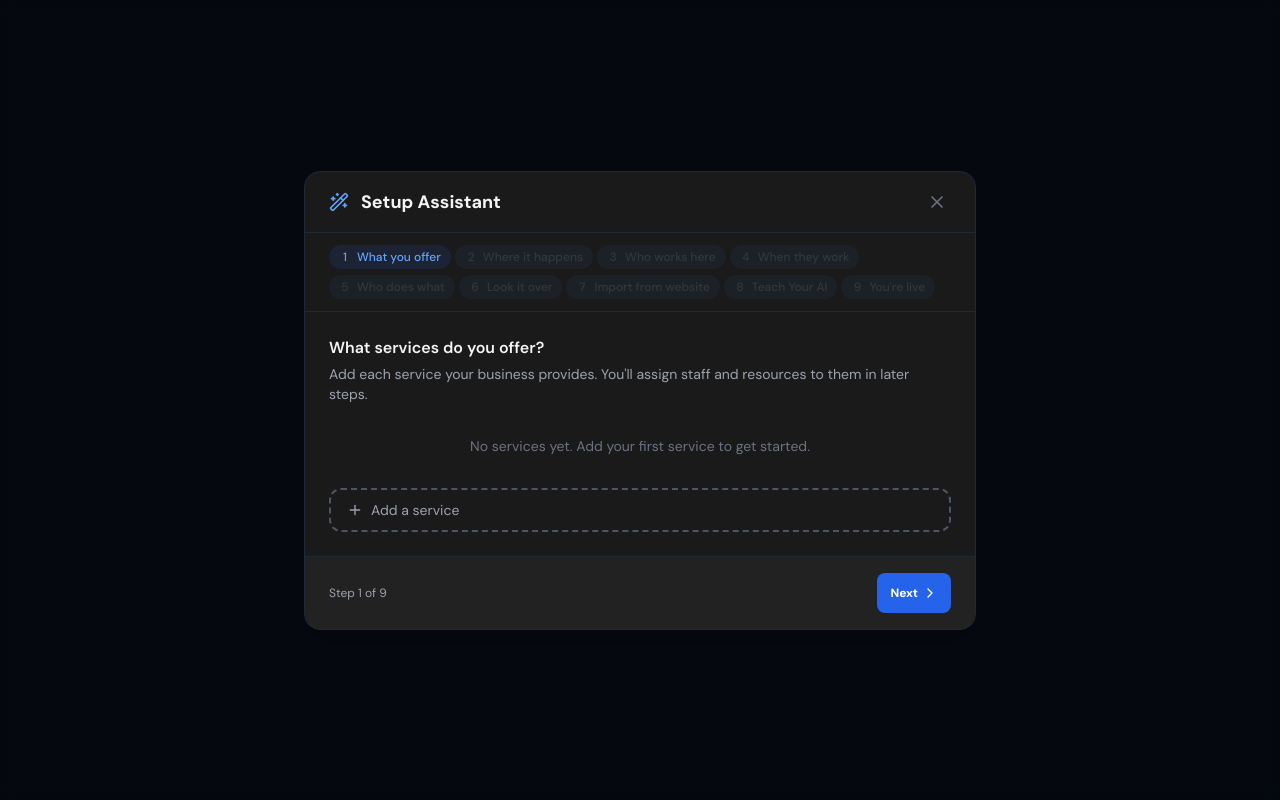
Test case: SetupWizard: Navigation › navigates to step 2 when Next is clicked
This screenshot has width=1280, height=800.
Click the button "Add a service" at (415, 510), box 329,488 -> 951,532
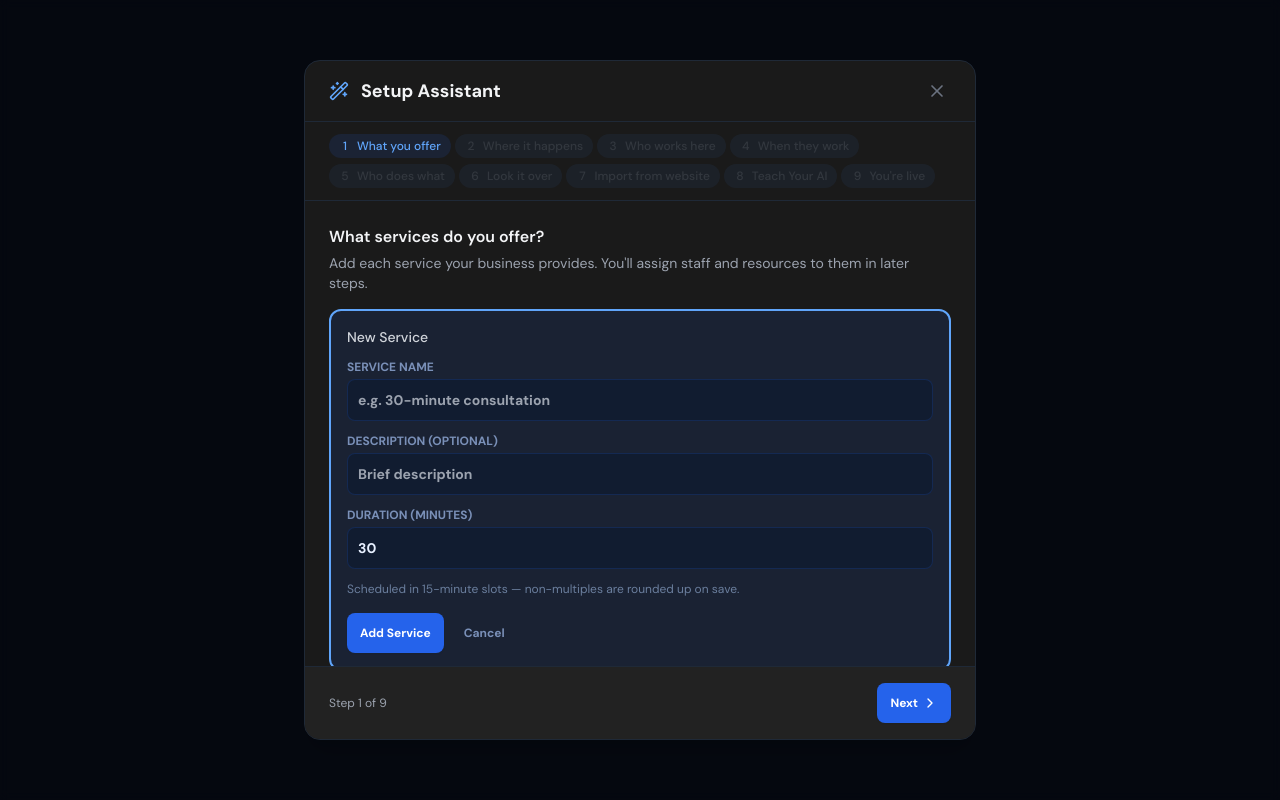
Type "Oil Change" into the field labelled "Service Name" at (640, 400), box 347,379 -> 933,421
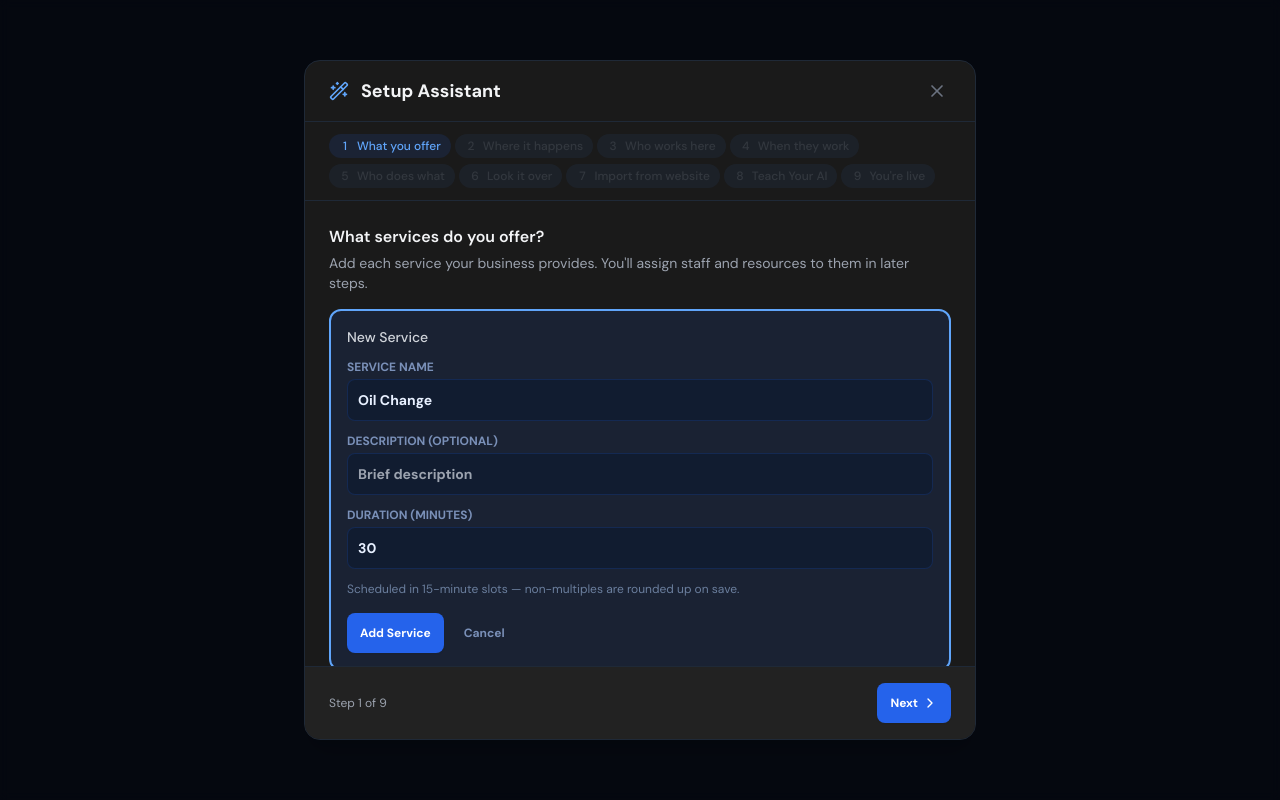
Click the button "Add Service" at (395, 633), box 347,613 -> 444,653
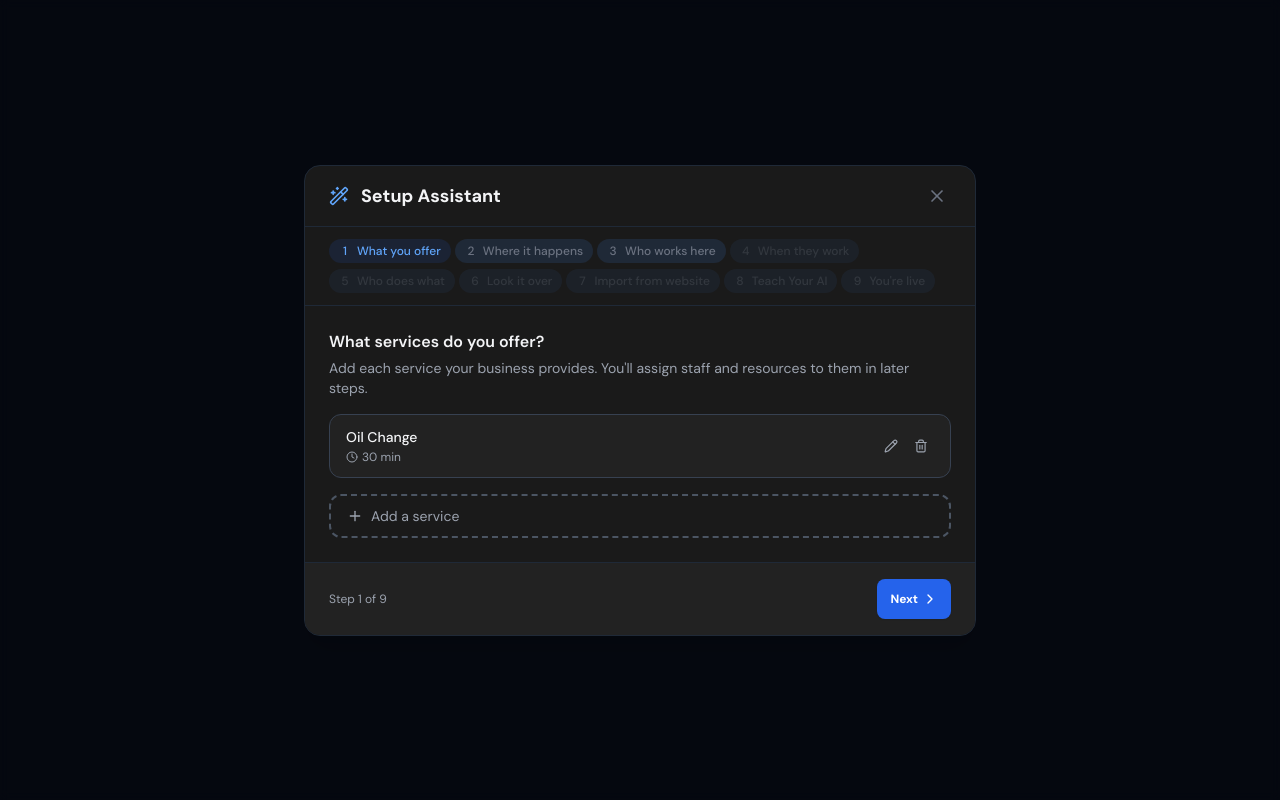
Click the button "Next" at (914, 598), box 877,578 -> 951,618
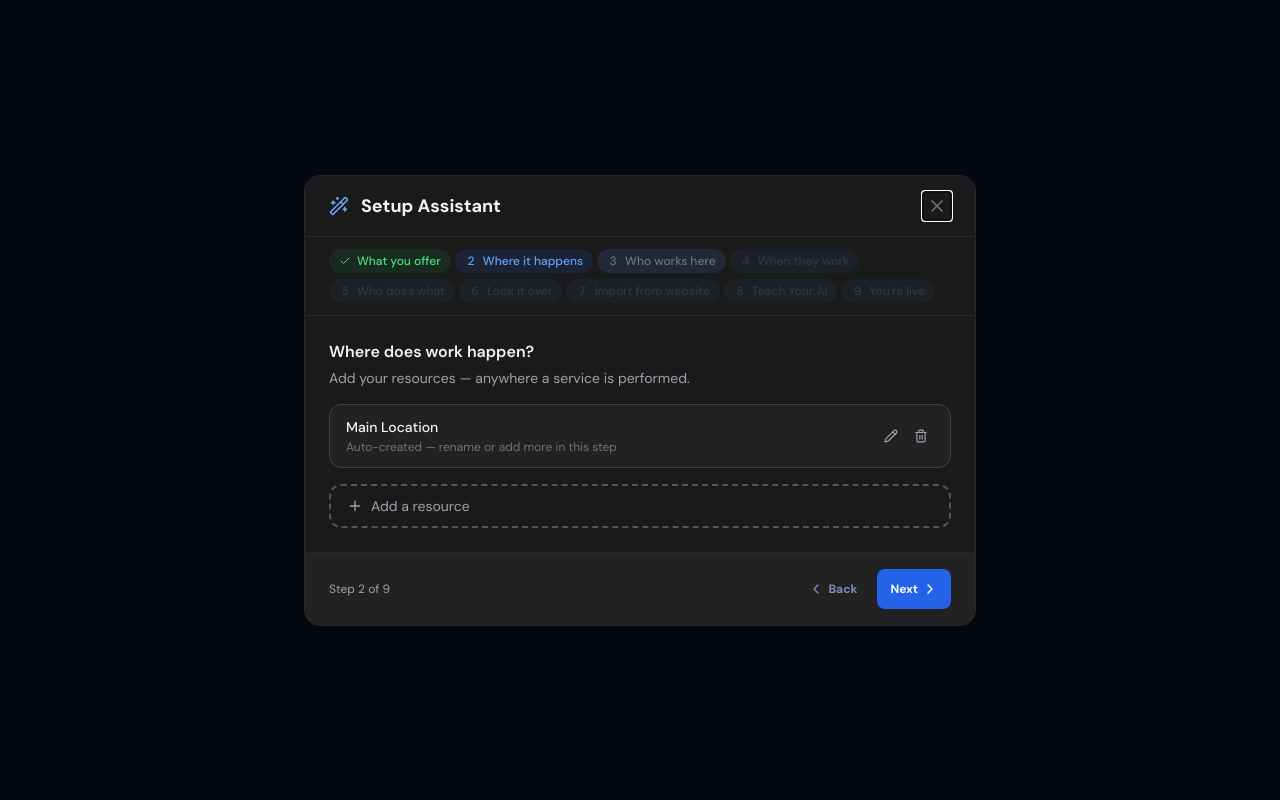
Check: the text "Step 2 of 9" is shown, box 329,580 -> 390,596
Check: the heading "Where does work happen?" is shown, box 329,340 -> 534,362
